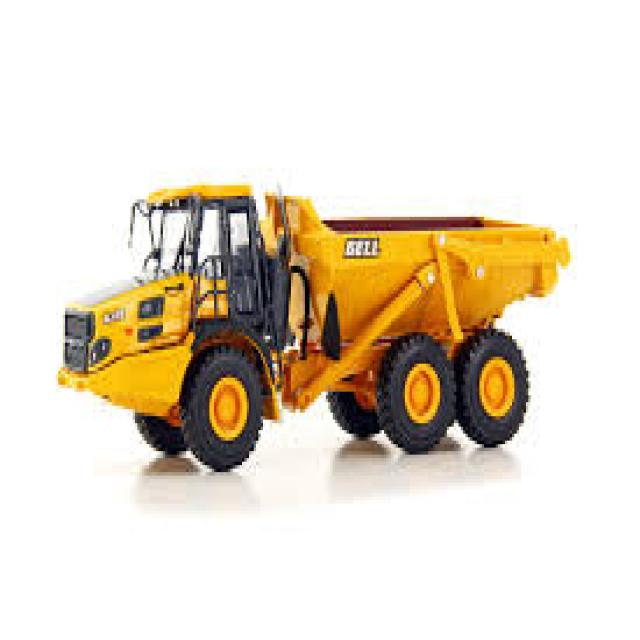dump_truck: (42, 158, 589, 482)
